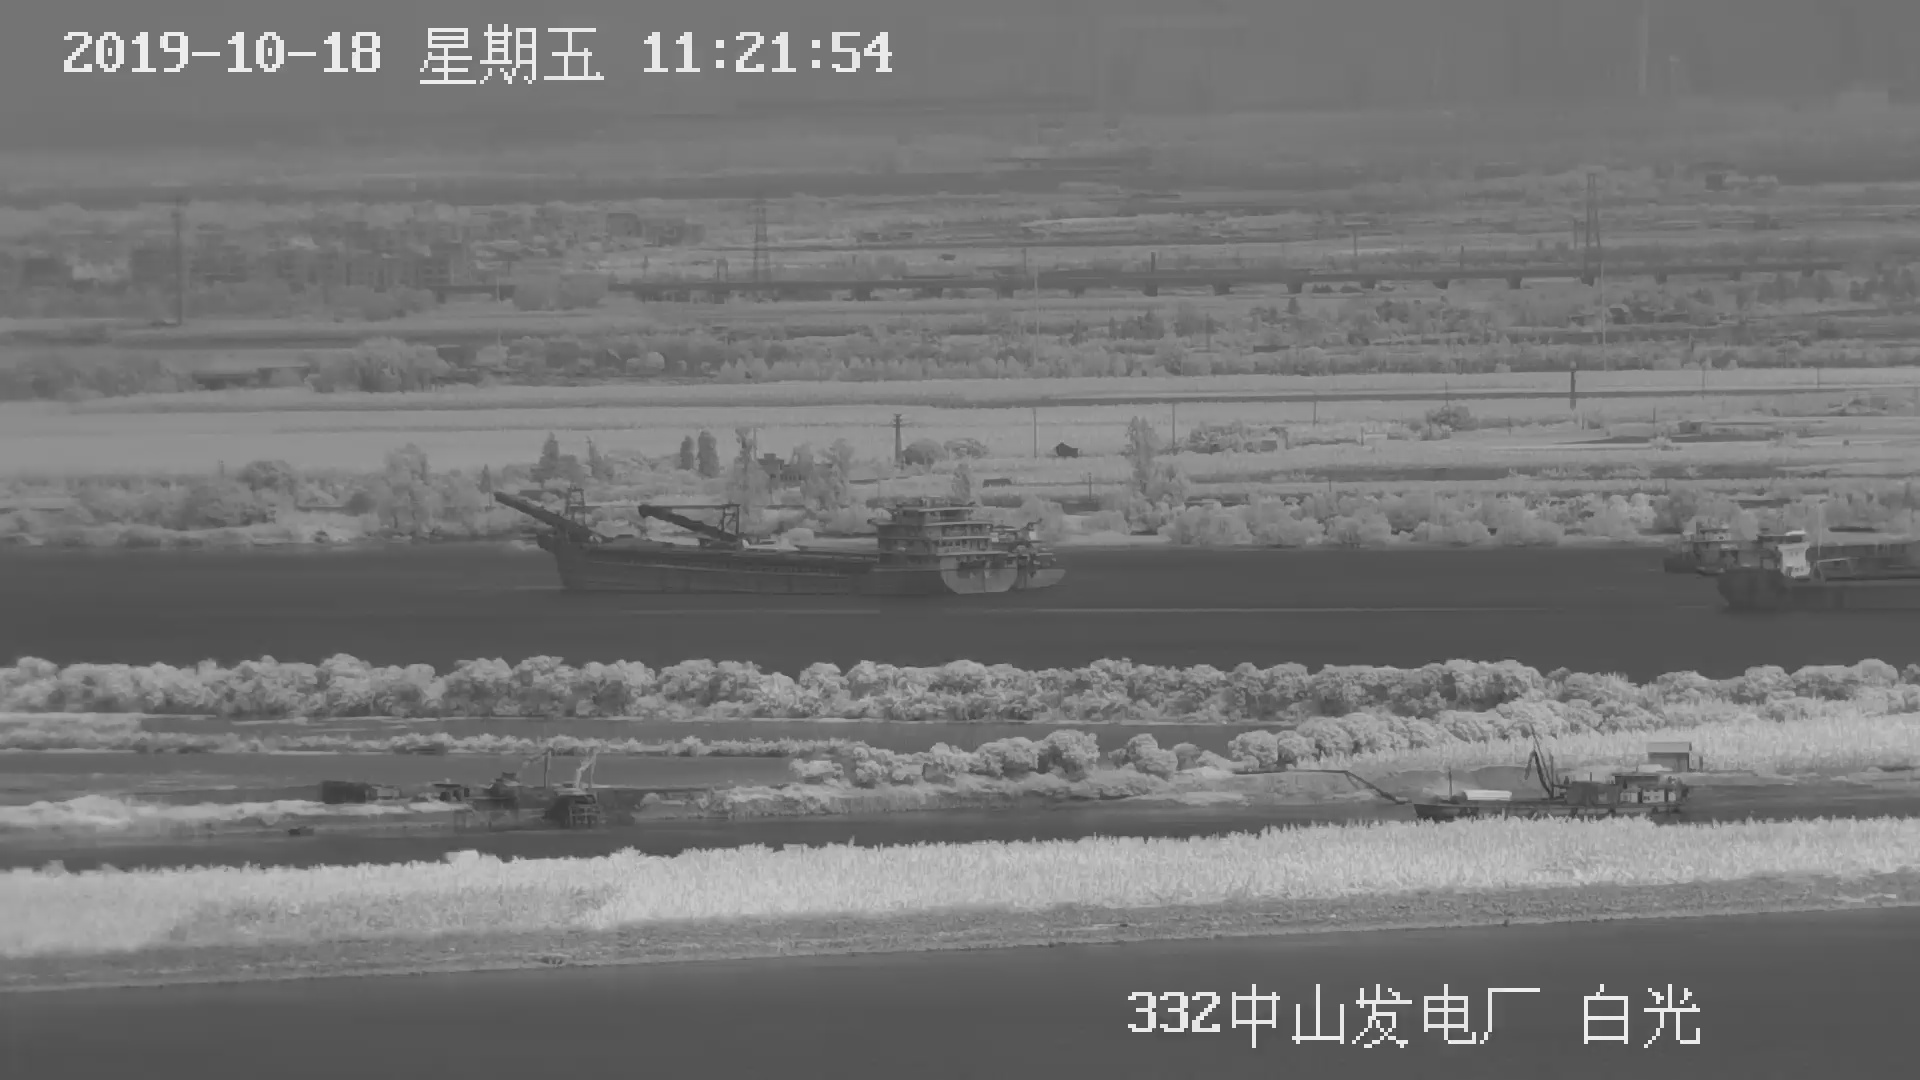ship: (488, 433, 1058, 604), (1665, 531, 1920, 607)
